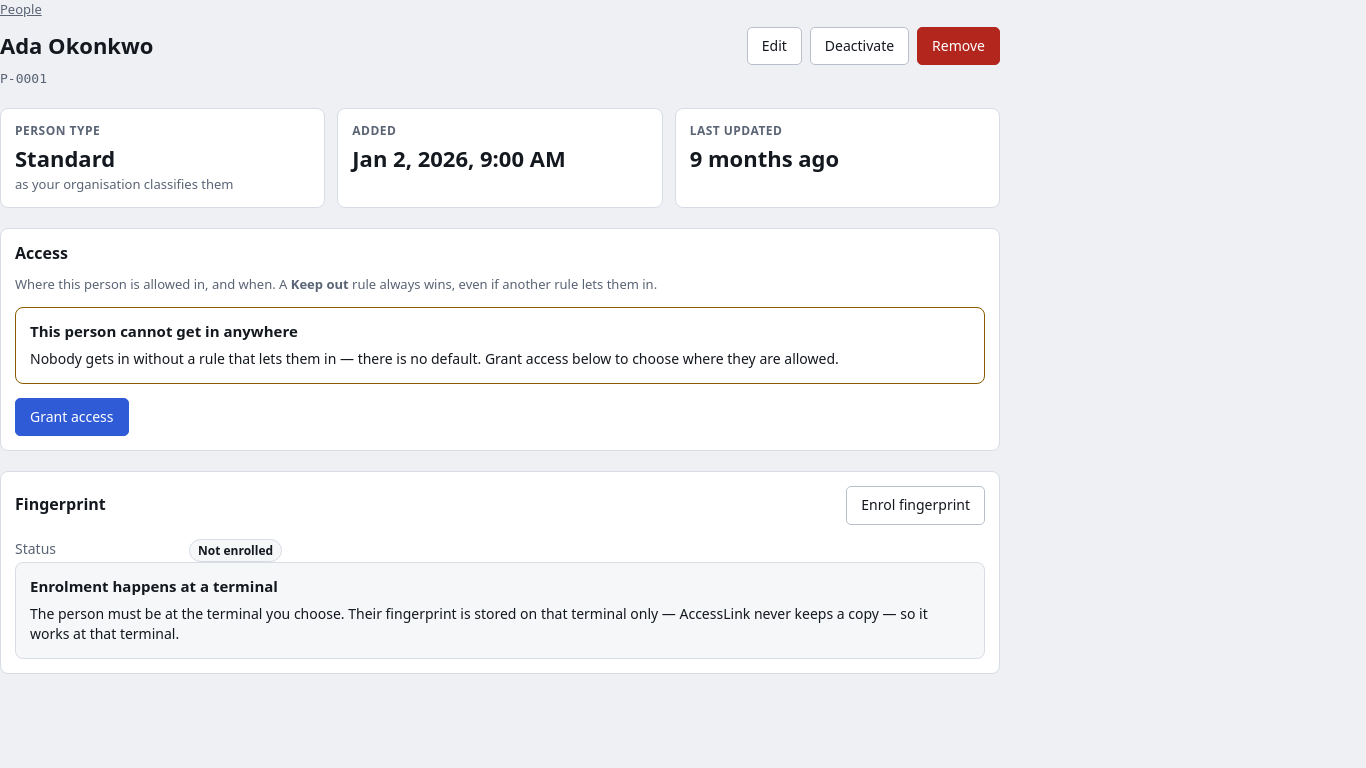
Test: choosing a terminal › shows the name, serial, site and status of every eligible terminal
Click the button "Enrol fingerprint": (916, 505) [846,486,985,524]
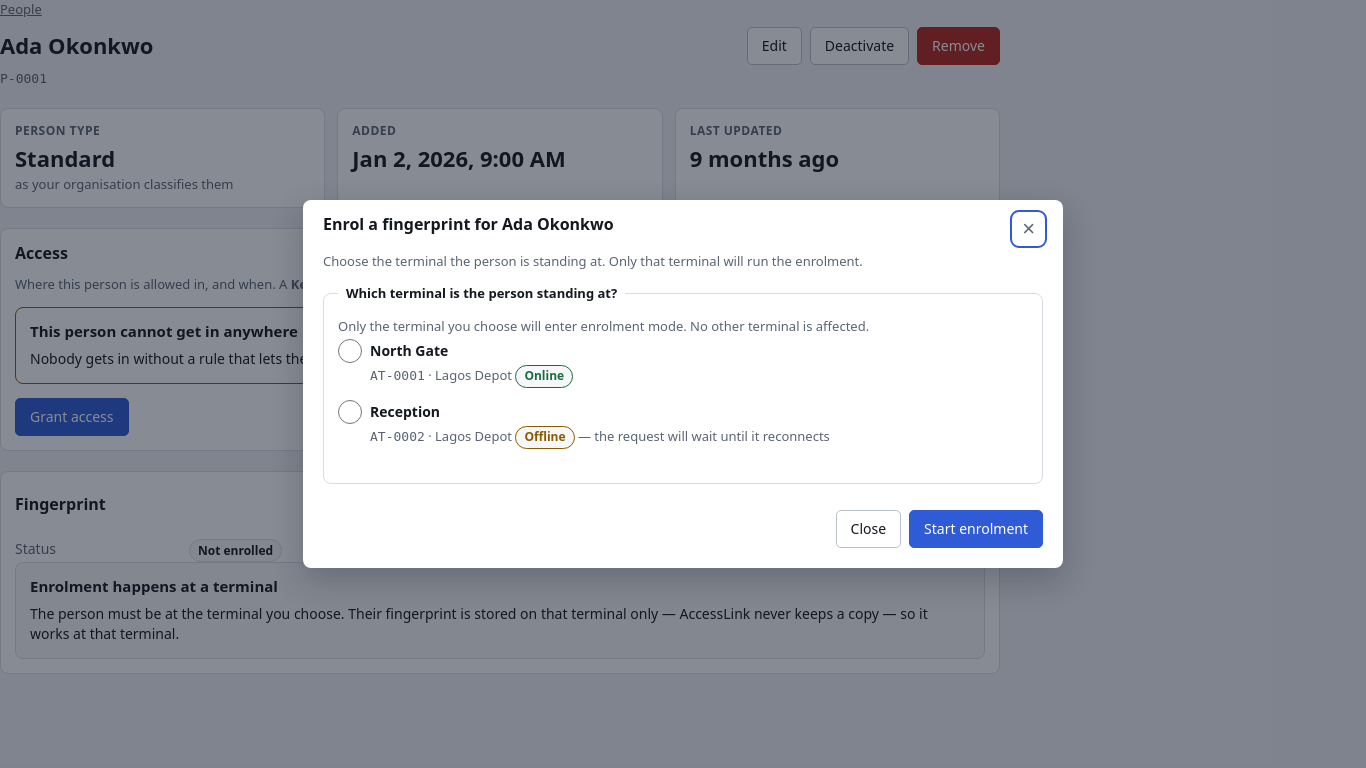
Expected: the radio button labelled "North Gate" is shown, [338,339,362,363]
Expected: the text "AT-0001" is shown, [370,368,425,383]
Expected: the text "AT-0001 · Lagos Depot Online" is shown, [370,365,573,388]
